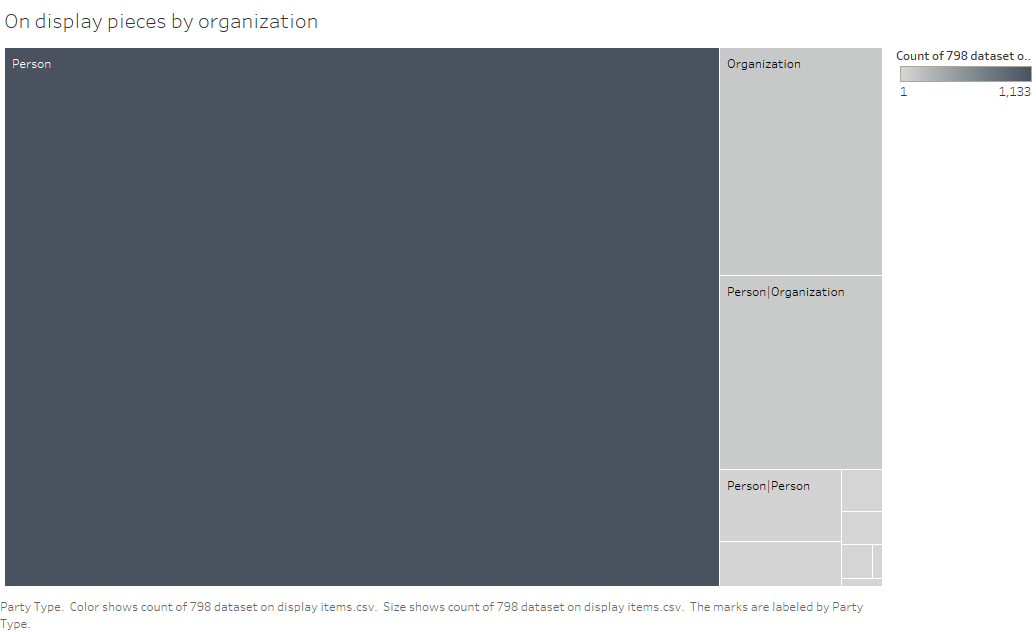

Layout of this report page (visuals, bound fields, positions):
{"tool":"tableau","page":{"name":"Dashboard 1","canvas":[1000,800],"ordinal":0},"visuals":[{"type":"worksheet","title":"Sheet 2","mark":"Automatic","rows":["798!data!only!not!on!view!rows_52761707DF0A46CA932B8A59ADC1F"],"cols":["date_acquired"],"box":[8,8,984,784]}]}

Visuals, with their boxes on the page's 1000x800 design canvas (x1, y1, x2, y2). These are canvas units, not pixel positions in the 1036x632 screenshot, which may show the page scaled, cropped or inside an application window:
"Sheet 2" worksheet: [8,8,992,792]
